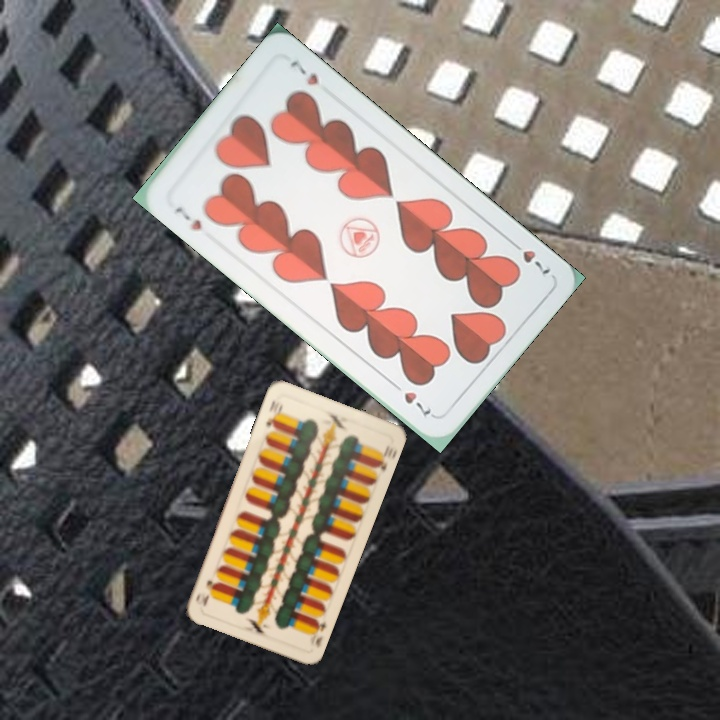E10: (305, 615, 329, 651), (262, 397, 285, 432)
H7: (505, 235, 554, 277), (171, 202, 204, 234)
